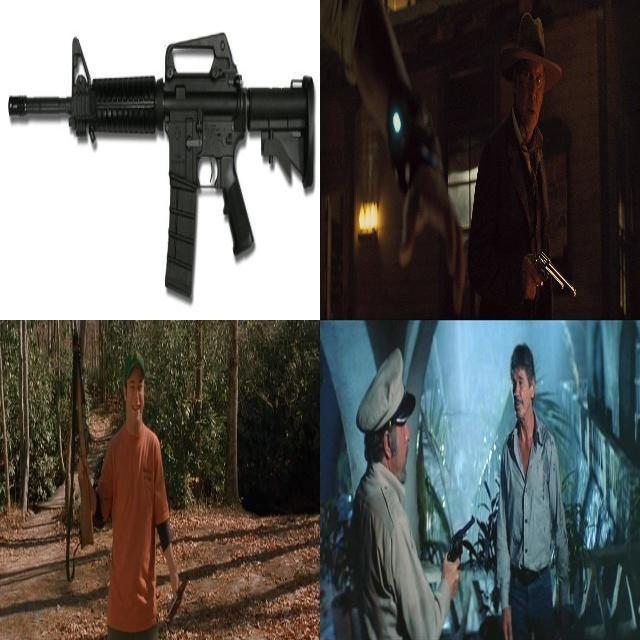gun-knife-thesis - v11 Yolov5 augmented: (6, 7, 315, 317), (64, 319, 96, 565), (435, 502, 477, 597), (522, 232, 572, 298)
